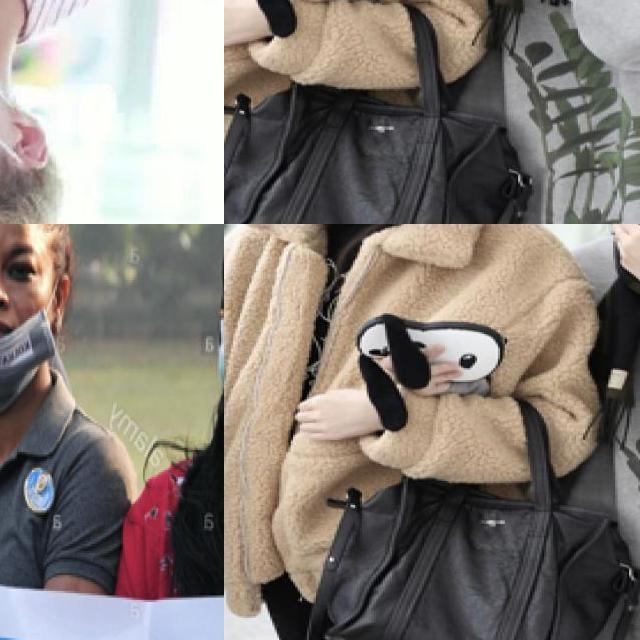hairnet: (0, 285, 53, 396)
